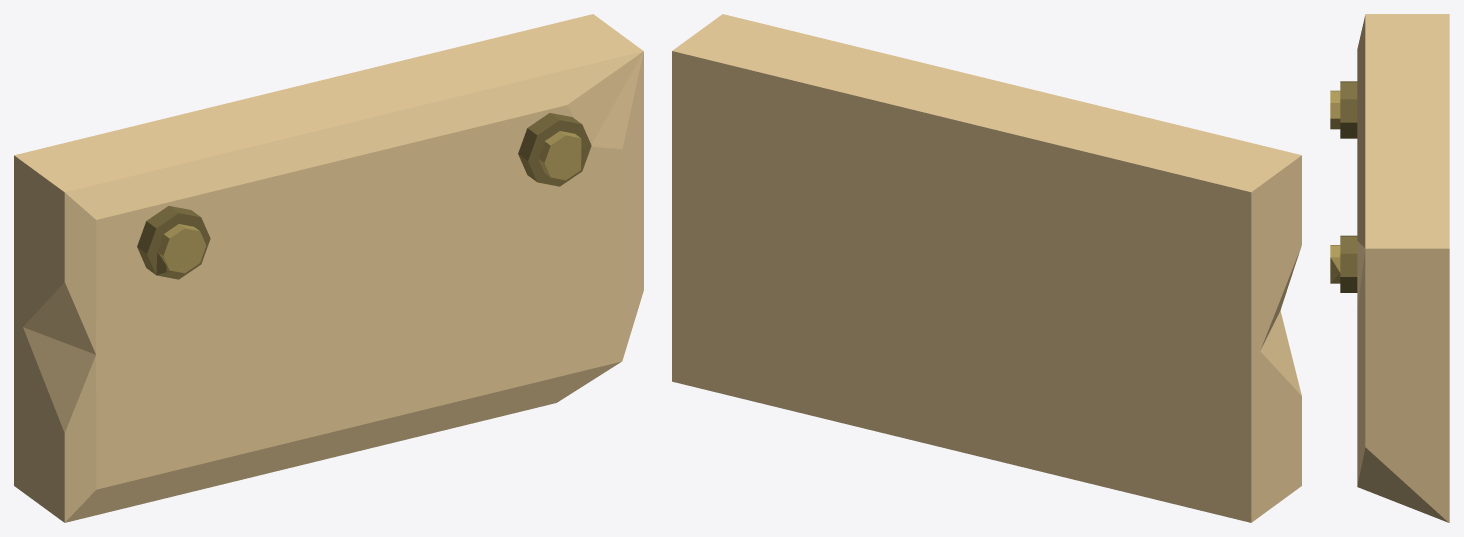
File: SFCS_Price_Tag.fbx
The picture shows the model from 3 angles, left to right: view 1: azimuth 30°, elevation 25°; view 2: azimuth 150°, elevation 25°; view 3: azimuth 270°, elevation 25°; orthographic projection. The views are drawn at different scales.
Visible parts, largest first — view 1: SFCS_Price_Tag; view 2: SFCS_Price_Tag; view 3: SFCS_Price_Tag.
Part boxes in pixels (x1,y1,x2,y2): SFCS_Price_Tag: (14, 14, 643, 522); SFCS_Price_Tag: (672, 14, 1301, 522); SFCS_Price_Tag: (1330, 14, 1449, 522).
Size of the model in its own units: 22.56 by 12.31 by 4.84.
